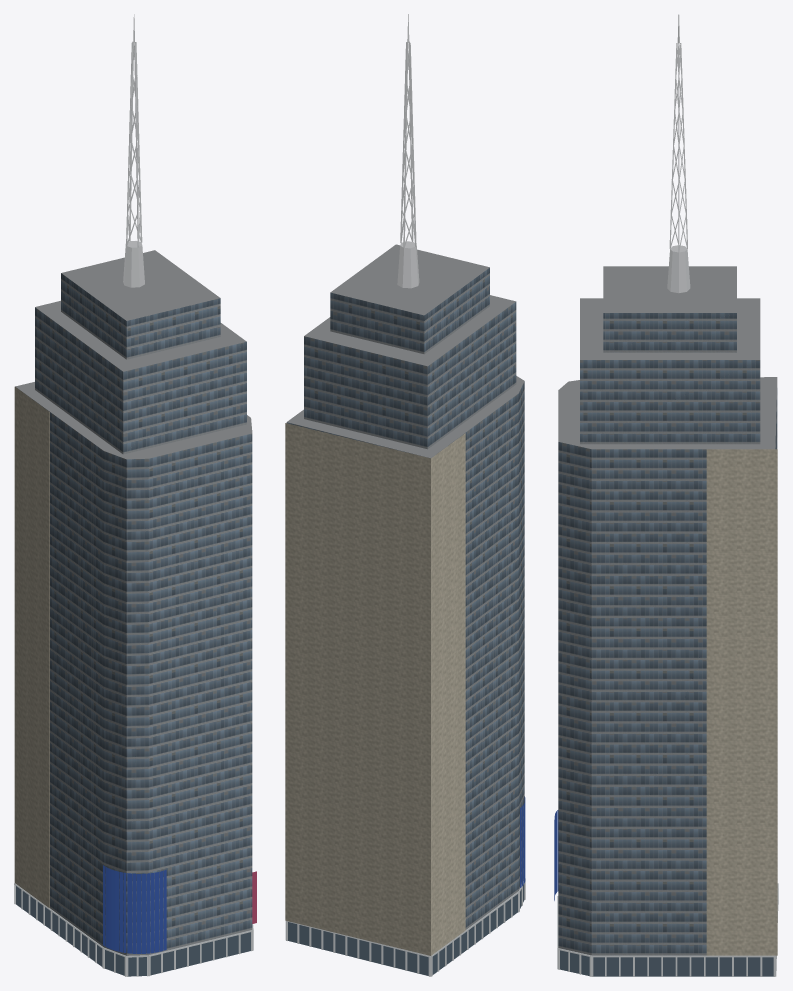
File: four_times_square.glb
The picture shows the model from 3 angles, left to right: view 1: azimuth 30°, elevation 25°; view 2: azimuth 150°, elevation 25°; view 3: azimuth 270°, elevation 25°; orthographic projection.
Parts seen in each view (by area): view 1: four_times_square; view 2: four_times_square; view 3: four_times_square.
Part boxes in pixels (x1,y1,x2,y2): four_times_square: (14, 14, 256, 976); four_times_square: (285, 14, 525, 976); four_times_square: (554, 14, 778, 976).
Size of the model in its own units: 59.39 by 351 by 77.08.
3 materials, 3 textured.
